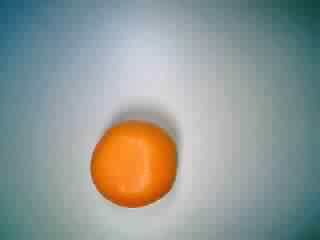orange: (86, 114, 181, 216)
